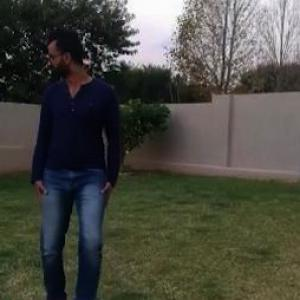follow: (19, 1, 132, 299)
